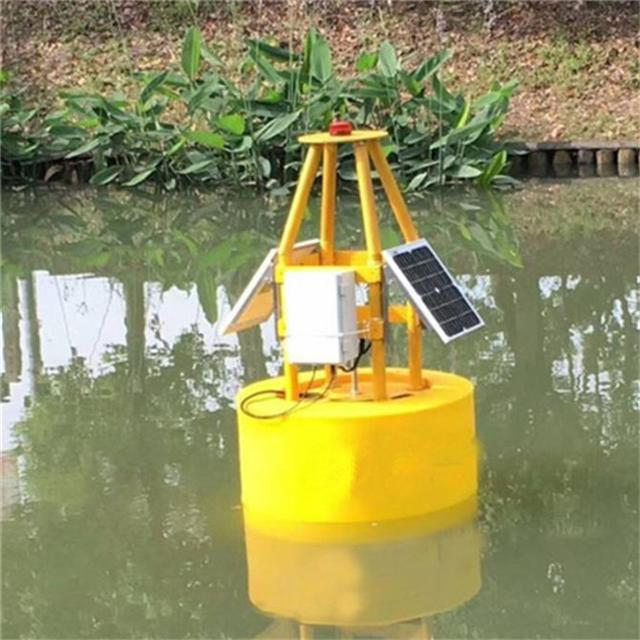buoy: (222, 114, 483, 530)
